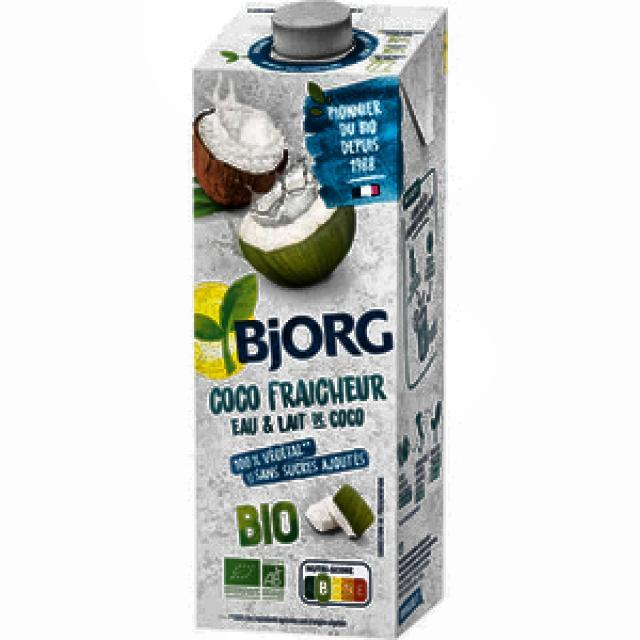cardboard: (190, 0, 448, 638)
